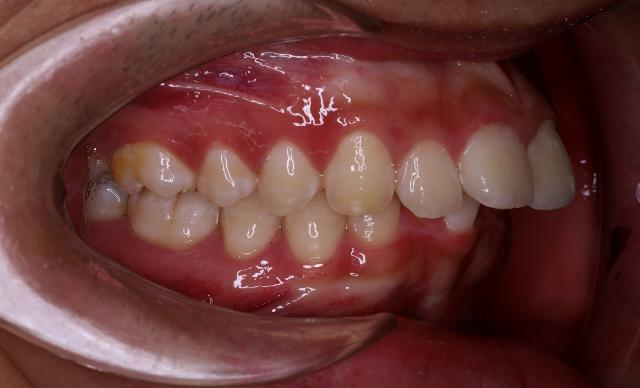canine class II 1/4: (279, 120, 401, 275)
molar class III 1/4: (112, 137, 218, 252)
